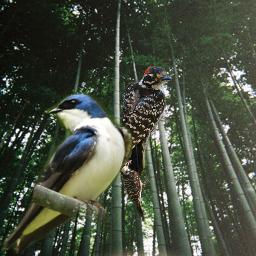Swallow: (1, 92, 133, 254)
Woodpecker: (123, 65, 172, 179), (119, 160, 150, 222)
